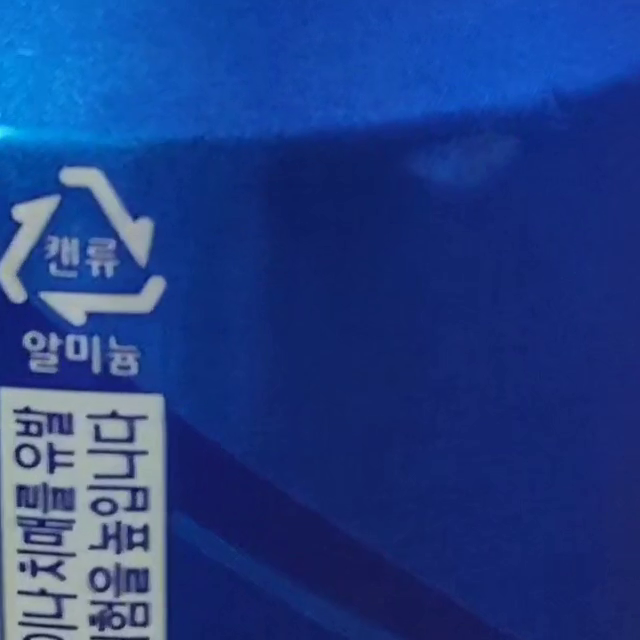Can: (2, 163, 164, 324)
